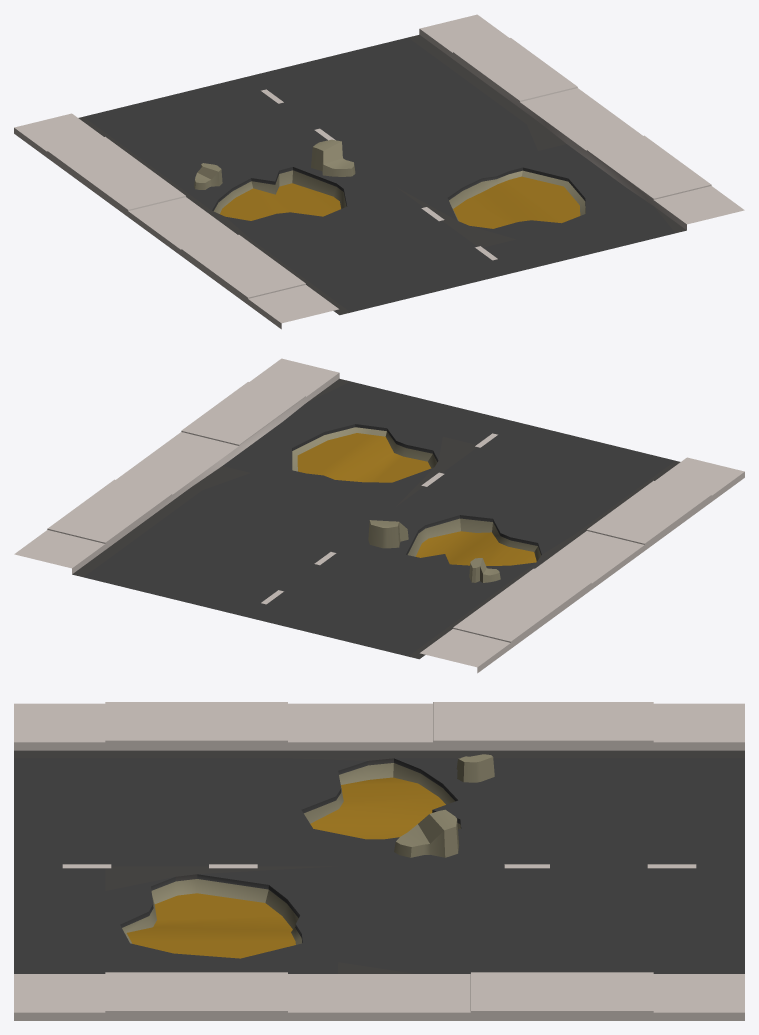
File: street_crack2.glb
3 views of the same model, one above another, from view 1: azimuth 30°, elevation 25°; view 2: azimuth 150°, elevation 25°; view 3: azimuth 270°, elevation 25° (orthographic). The views are drawn at different scales.
Parts seen in each view (by area): view 1: Street_Straight_Crack2; view 2: Street_Straight_Crack2; view 3: Street_Straight_Crack2.
Part boxes in pixels (x1=…): Street_Straight_Crack2: x1=14, y1=14, x2=744, y2=329; Street_Straight_Crack2: x1=14, y1=358, x2=744, y2=673; Street_Straight_Crack2: x1=14, y1=702, x2=744, y2=1020.
Size of the model in its own units: 8 by 0.5801 by 8.
1 material, 1 textured.
